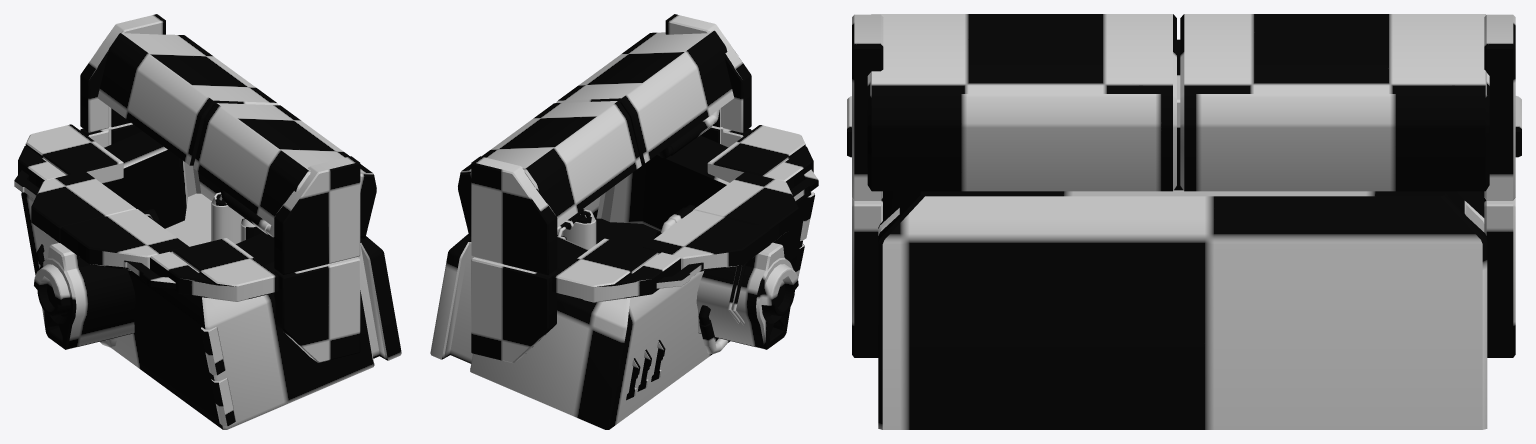
File: module04.obj
The picture shows the model from 3 angles, left to right: view 1: azimuth 30°, elevation 25°; view 2: azimuth 150°, elevation 25°; view 3: azimuth 270°, elevation 25°; orthographic projection. The views are drawn at different scales.
Visible parts, largest first — view 1: main; view 2: main; view 3: main.
Boxes of the visible parts, <box> form: main: <box>14,14,401,429</box>; main: <box>430,14,818,429</box>; main: <box>847,14,1521,429</box>.
Bounding box in the file's own units: 93.6 × 82.9 × 128.
1 material, 1 textured.
